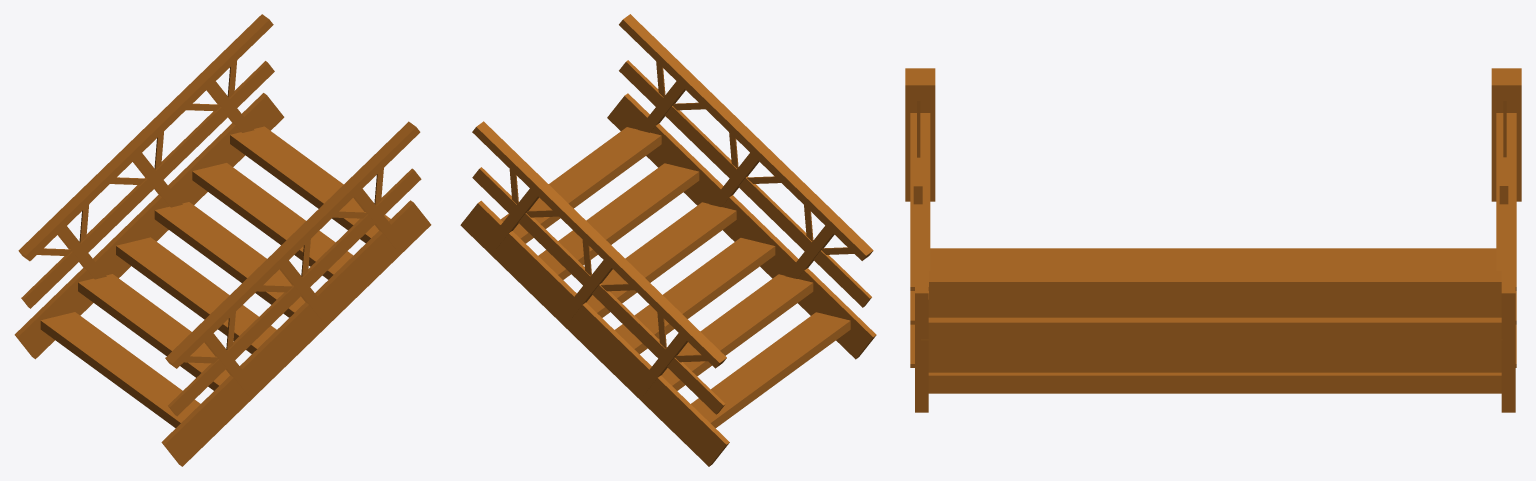
File: Bridge_Stairs.fbx
The picture shows the model from 3 angles, left to right: view 1: azimuth 30°, elevation 25°; view 2: azimuth 150°, elevation 25°; view 3: azimuth 270°, elevation 25°; orthographic projection. The views are drawn at different scales.
Parts seen in each view (by area): view 1: Cube.1451; view 2: Cube.1451; view 3: Cube.1451.
Part boxes in pixels (bbox=[...]): Cube.1451: bbox=[14, 14, 431, 466]; Cube.1451: bbox=[460, 14, 876, 466]; Cube.1451: bbox=[905, 68, 1521, 412].
Size of the model in its own units: 6243 by 6382 by 6256.
